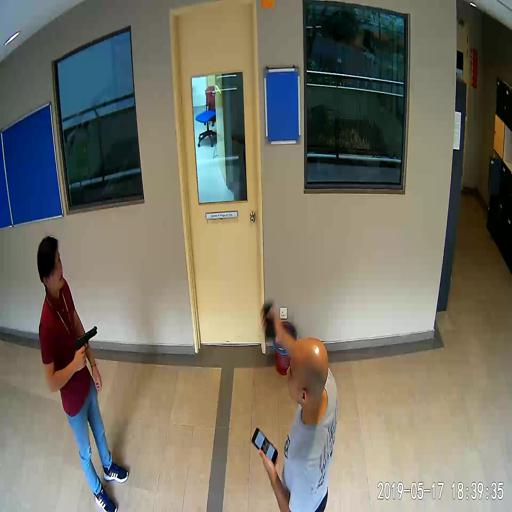pistol: (75, 325, 96, 365)
